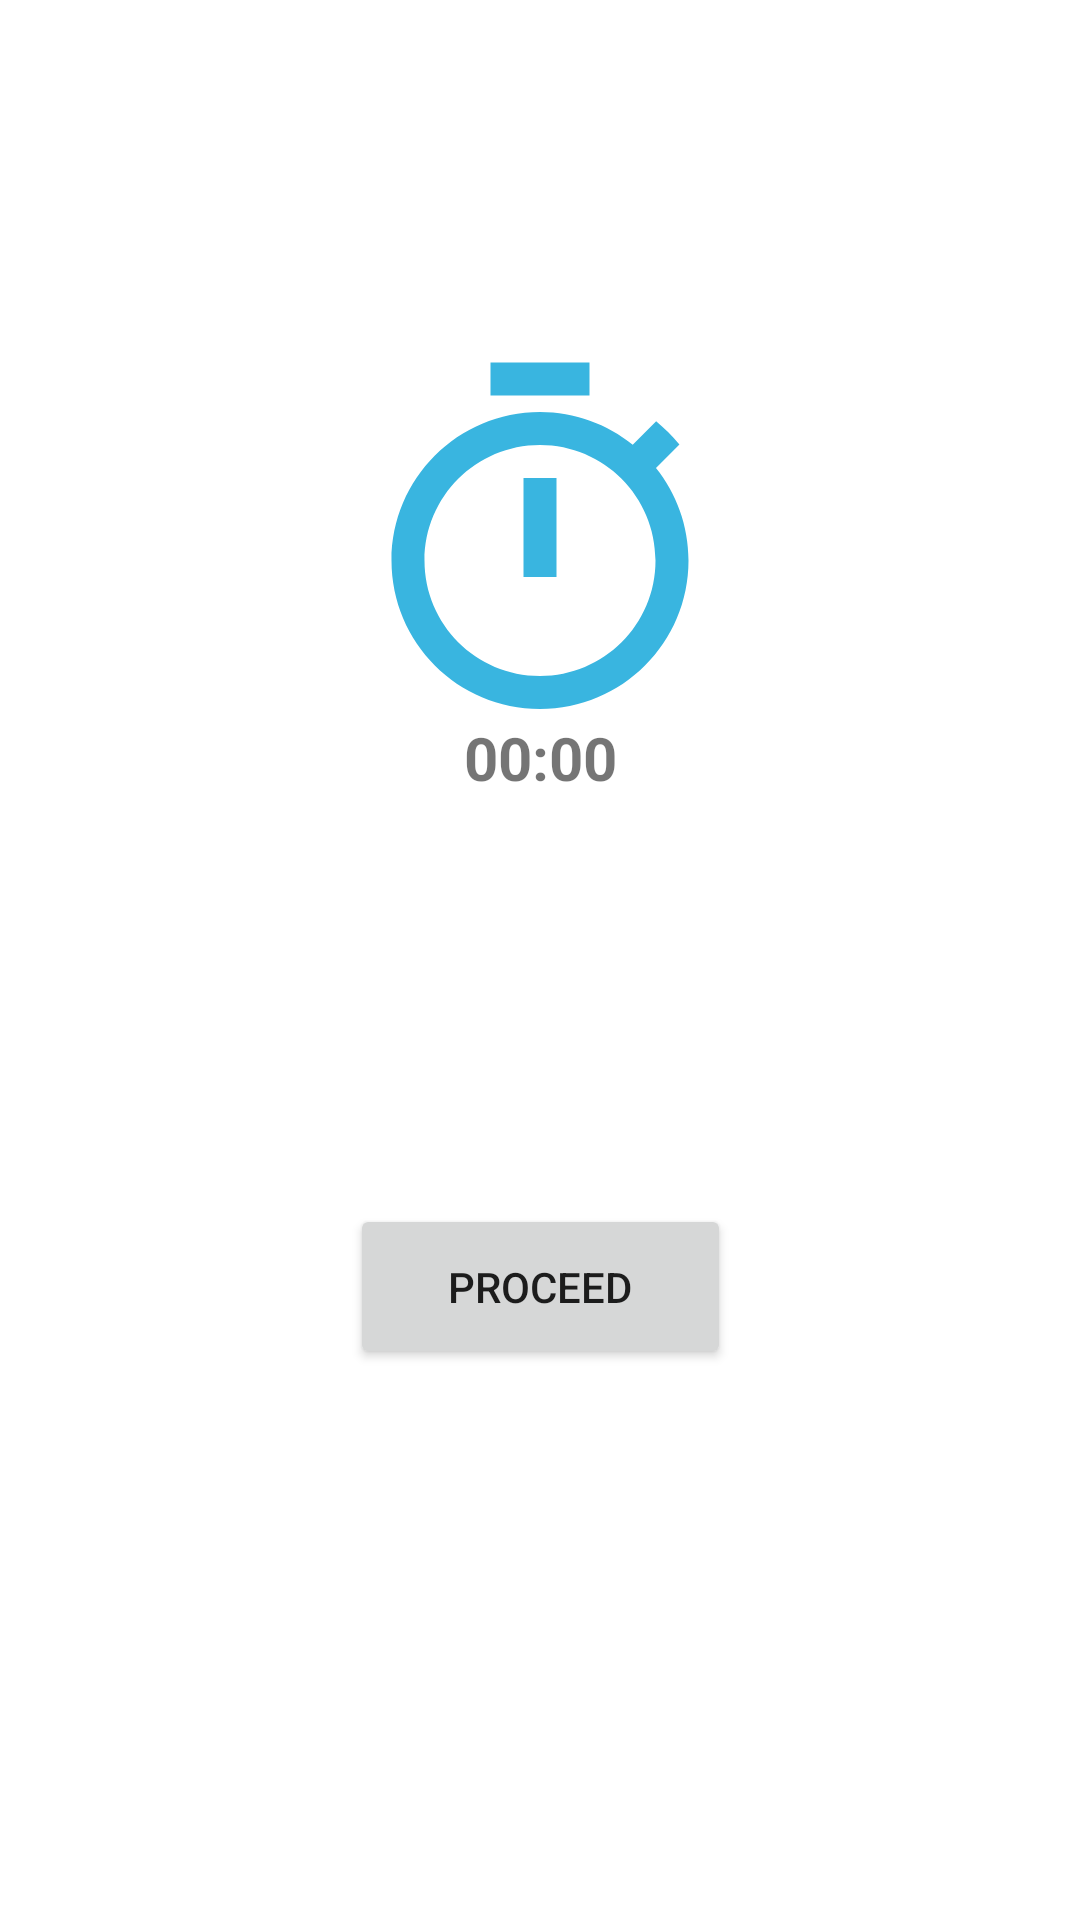

Where to tap for icons on this 1080×1920 app screen, as (x,y):
timer: (540,535)
